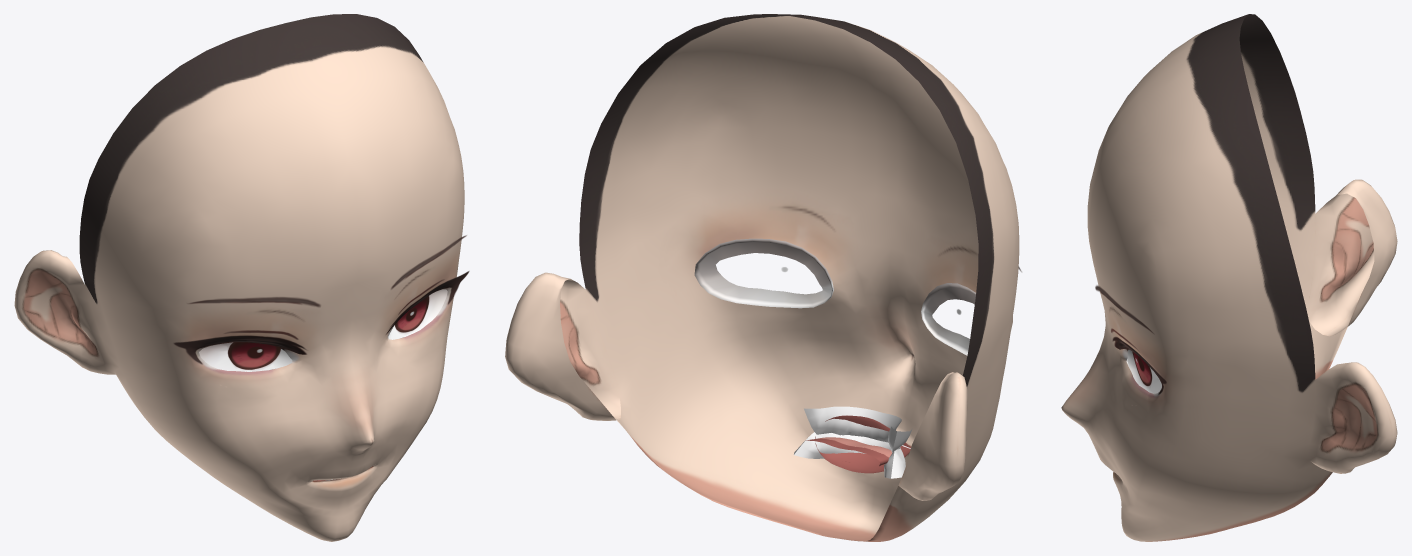
3 renders of one model, left to right at view 1: azimuth 30°, elevation 25°; view 2: azimuth 150°, elevation 25°; view 3: azimuth 270°, elevation 25°, orthographic. The views are drawn at different scales.
Parts seen in each view (by area): view 1: part; view 2: part; view 3: part.
Part boxes in pixels (x1,y1,x2,y2): part: [14, 14, 469, 541]; part: [505, 14, 1021, 541]; part: [1061, 14, 1397, 541].
Size of the model in its own units: 0.1975 by 0.2273 by 0.1389.
7 materials, 7 textured.
